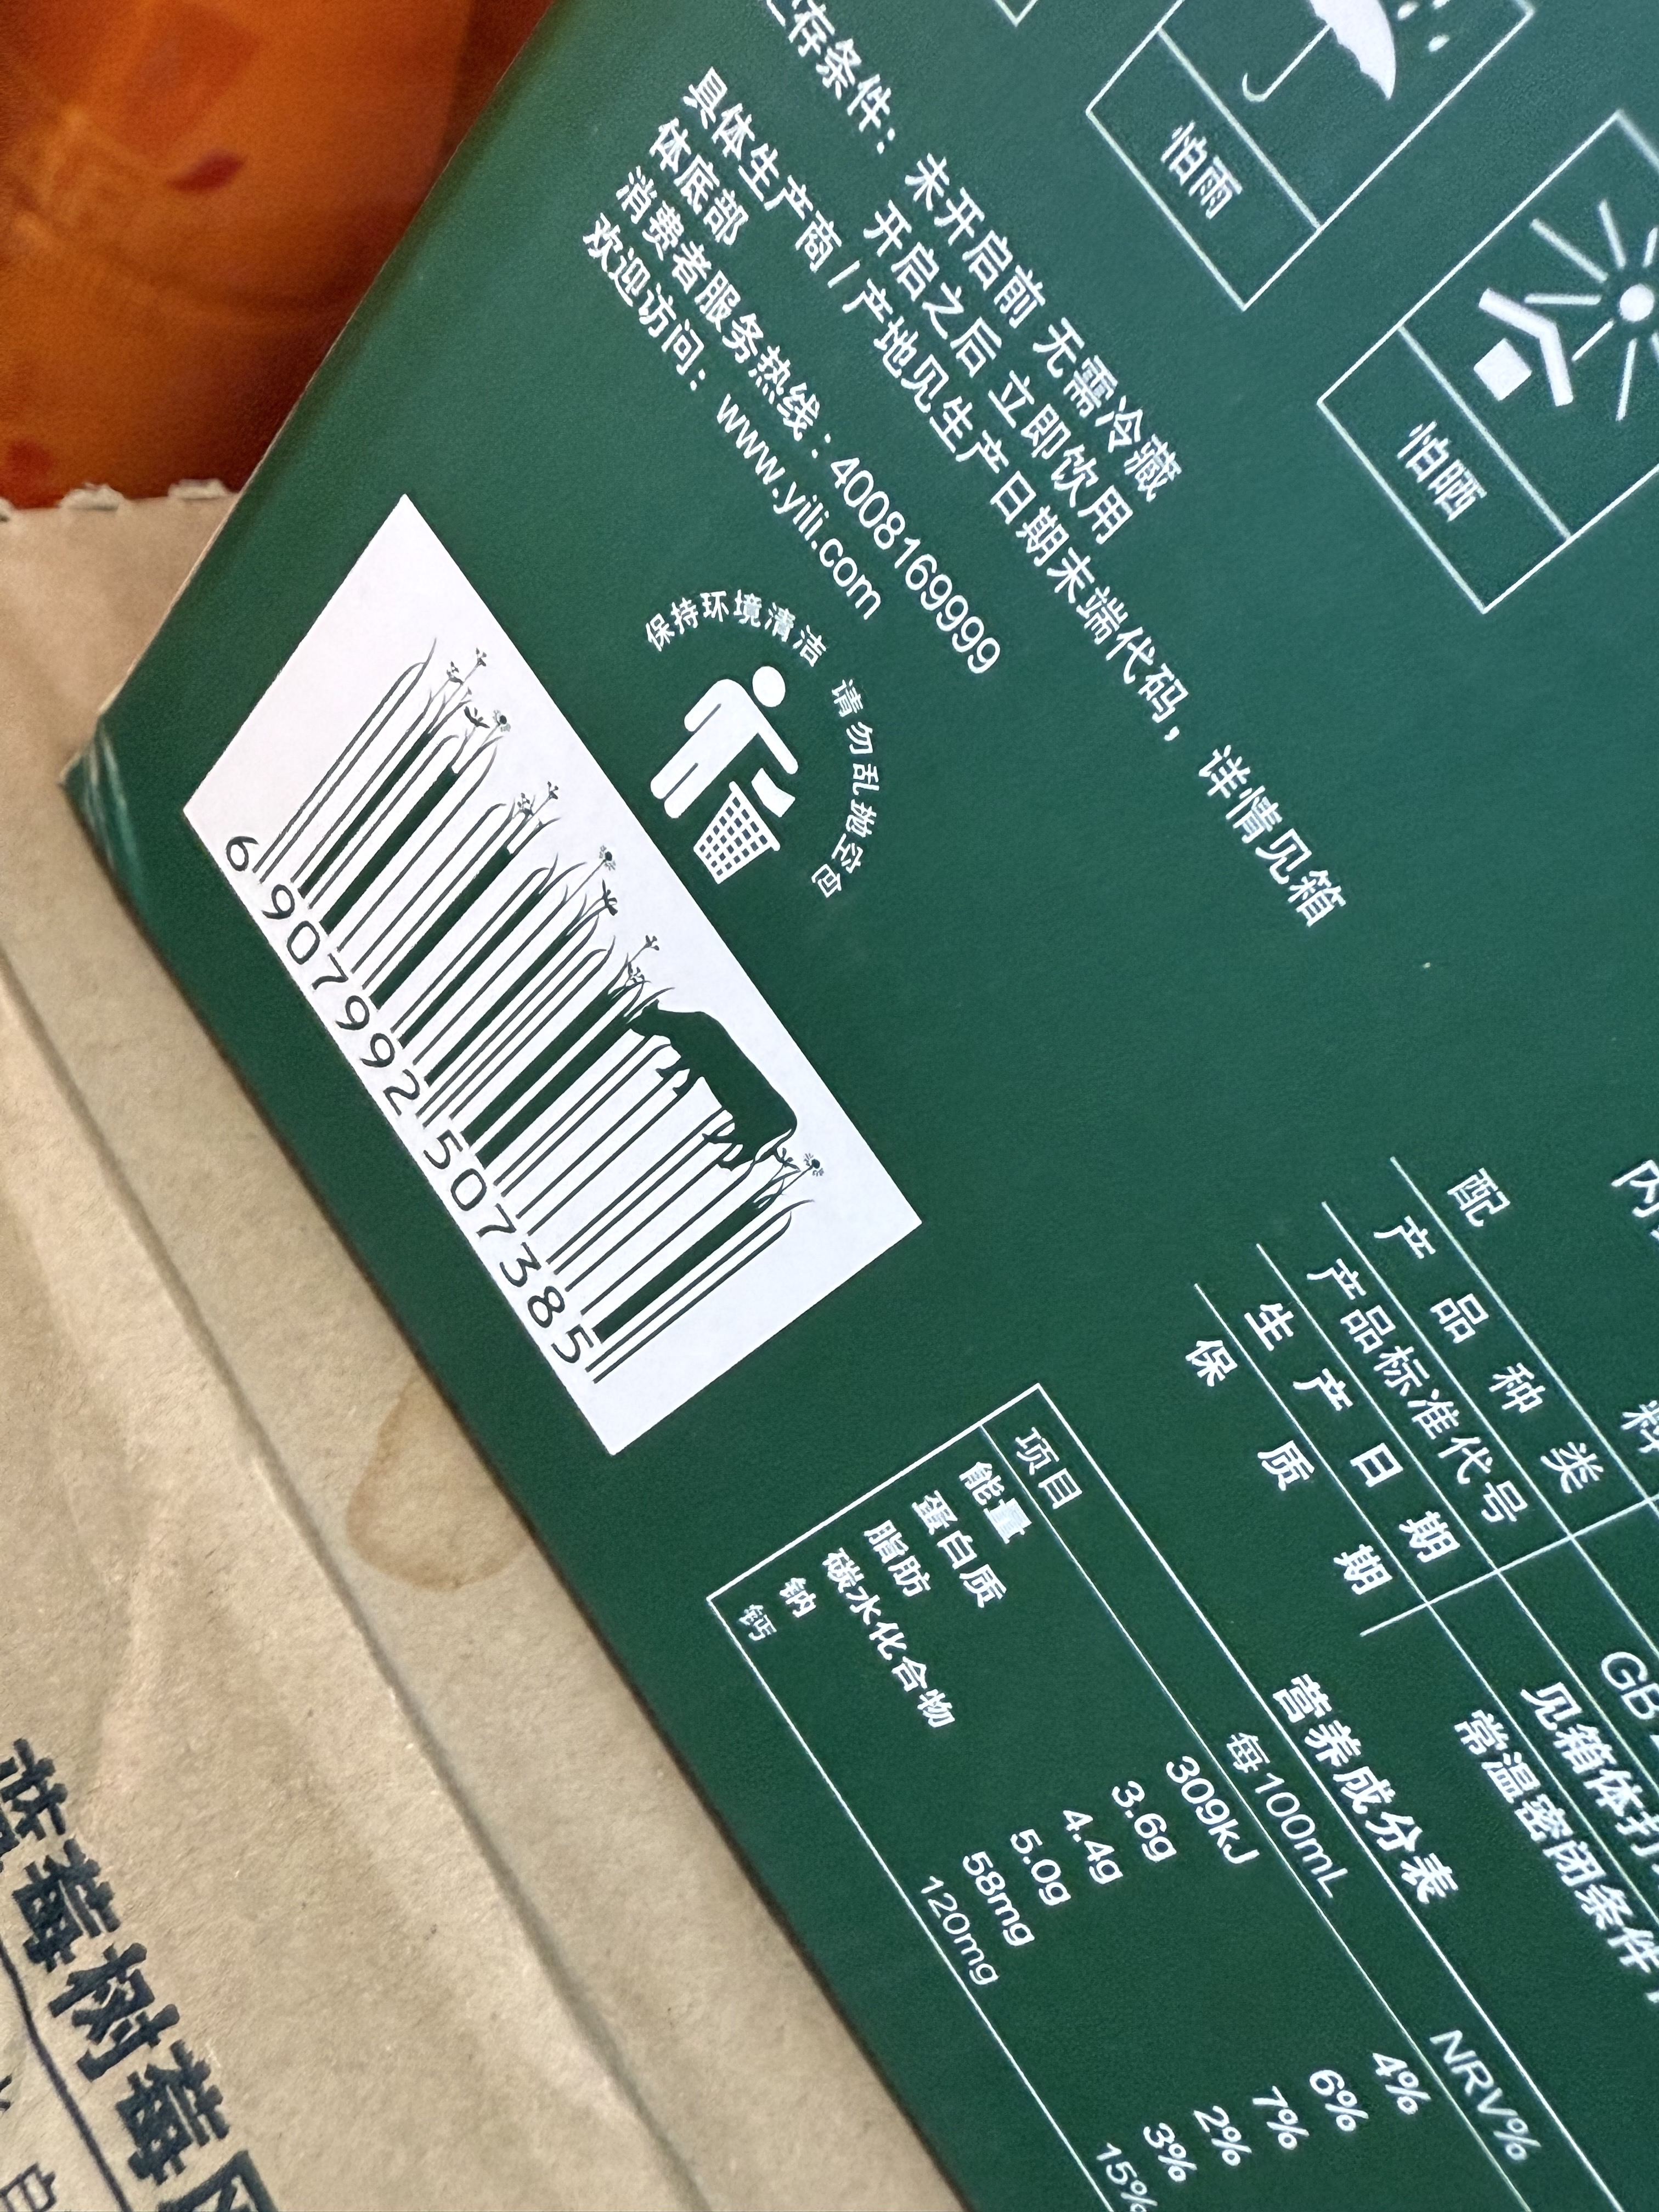bar: (249, 646, 828, 1399)
